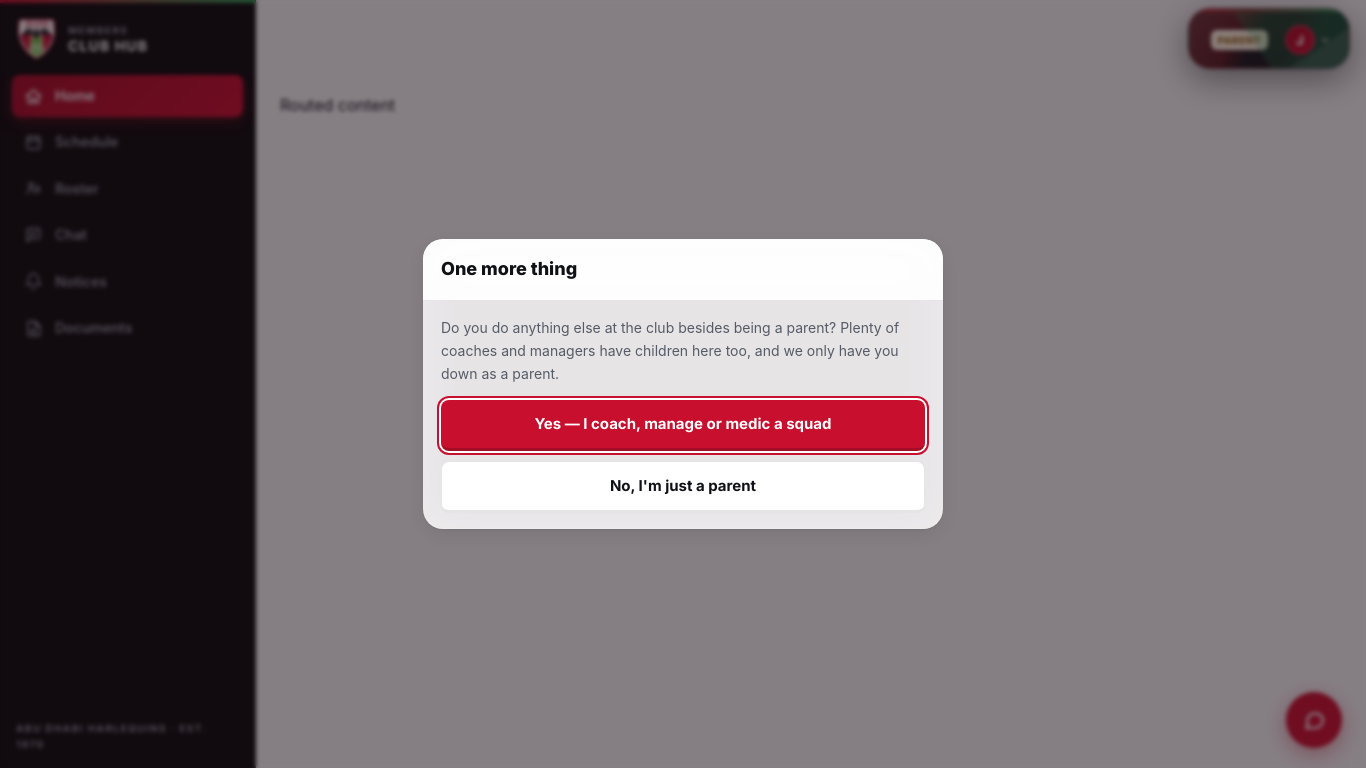
it: NamePrompt — the role gate › records "just a parent" and closes
Step 1. Click the button with test id "no-role" → x=683, y=486, box left=441, top=460, right=925, bottom=512
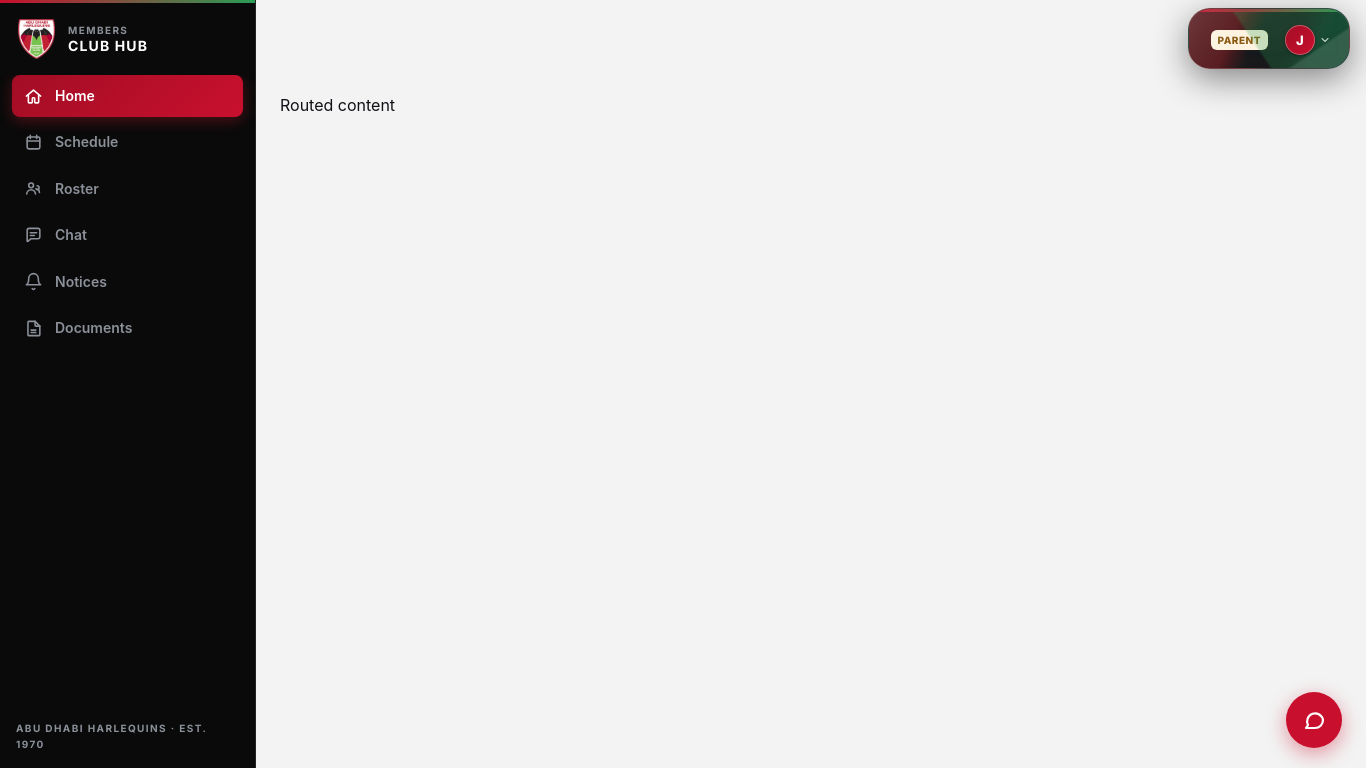
Expected: the button with test id "no-role" is gone
